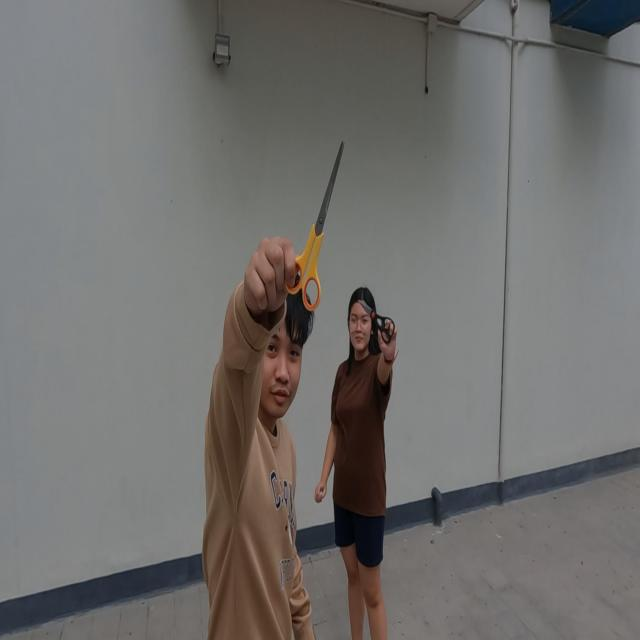scissor: (280, 137, 346, 313), (357, 297, 395, 345)
